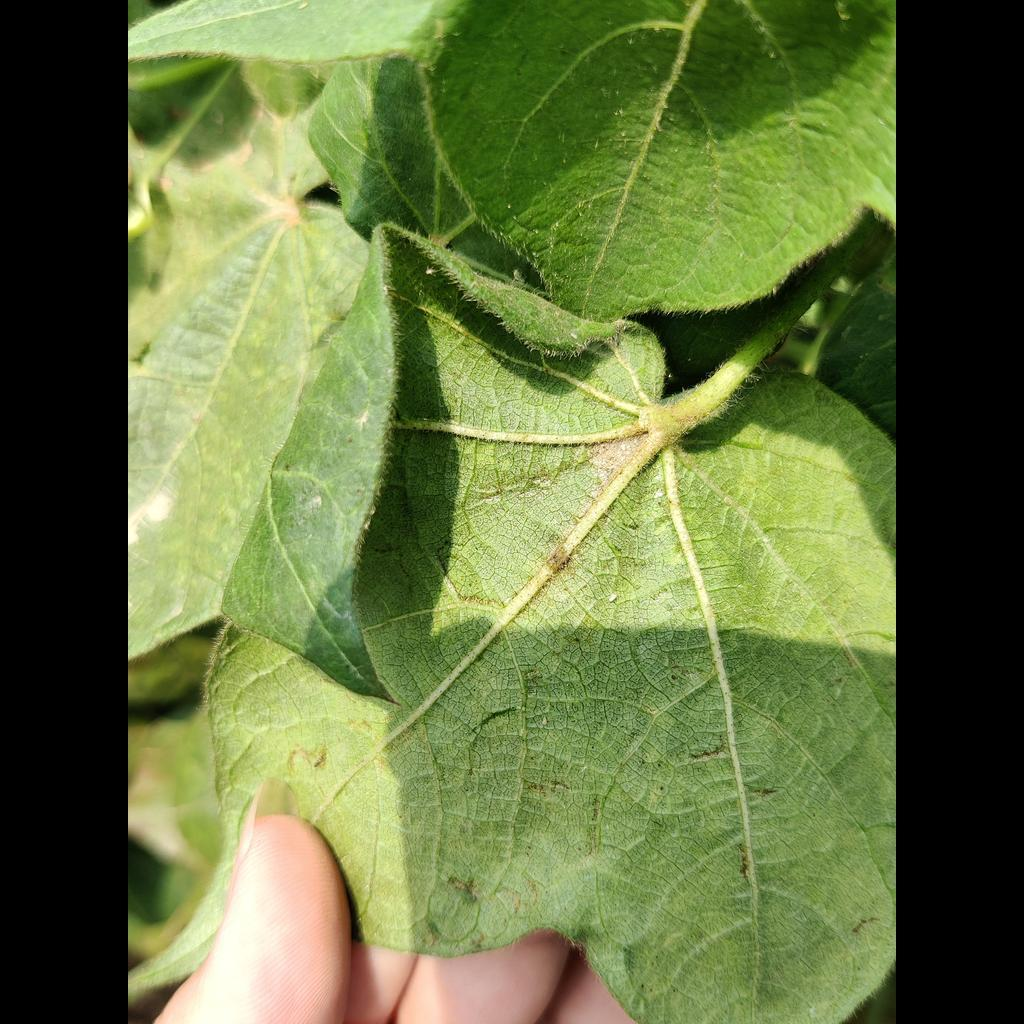adult: (608, 594, 617, 602)
nymph: (425, 269, 434, 275), (656, 492, 664, 498), (570, 333, 577, 339), (543, 719, 547, 724)
